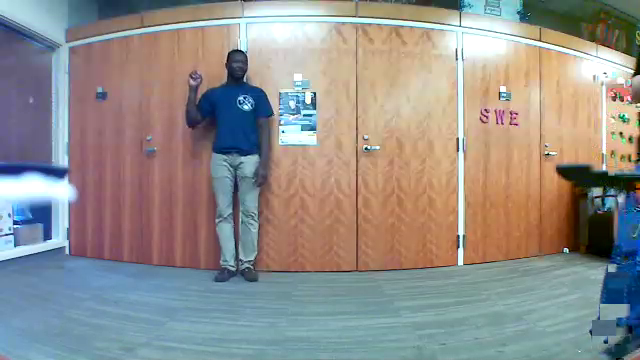up: (184, 60, 205, 89)
